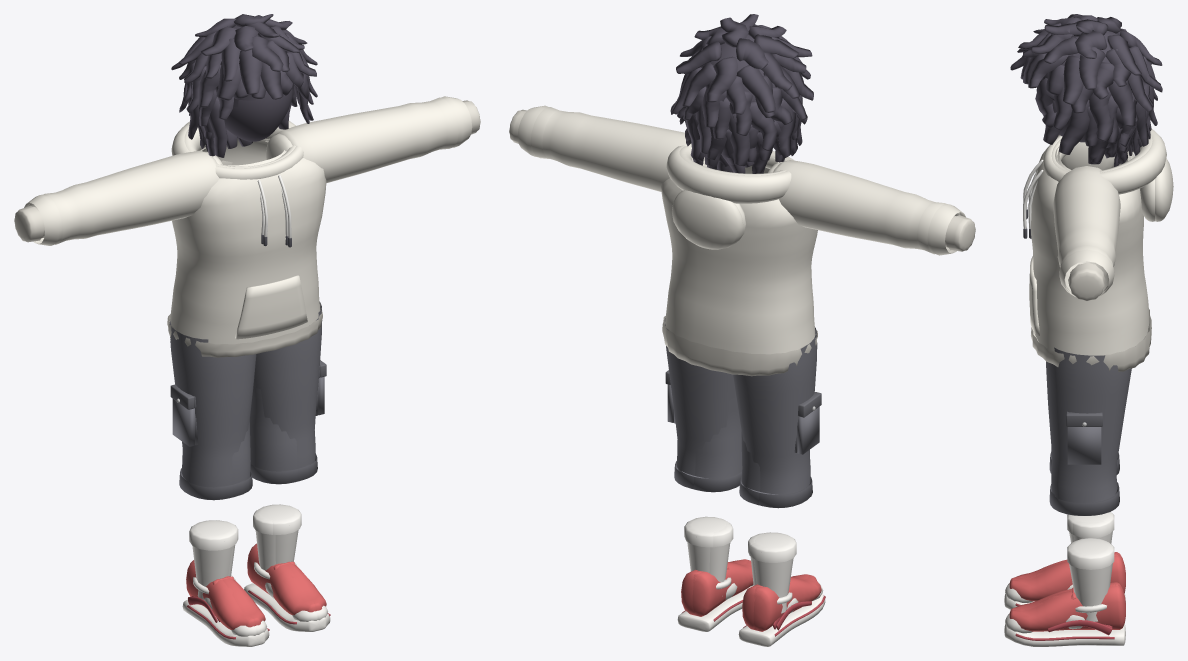
File: hero-parts.glb
3 views of the same model, side by side, from view 1: azimuth 30°, elevation 25°; view 2: azimuth 150°, elevation 25°; view 3: azimuth 270°, elevation 25° (orthographic).
Visible parts, largest first — view 1: body.sturdy|top.hoodie|TOP, body.sturdy|bottom.cargo|BOTTOM, body.slim|hair.ondulado|HAIR, body.sturdy|shoes.retro|SOLE, body.slim|bottom.cargo|BOTTOM, body.slim|top.hoodie|TOP, body.sturdy|top.hoodie|TOP_ACCENT, body.slim|shoes.retro|SOLE, body.slim|shoes.retro|SHOES, body.slim|hair.ondulado#covered|HAIR, body.sturdy|shoes.retro|SHOES; view 2: body.sturdy|top.hoodie|TOP, body.slim|hair.ondulado|HAIR, body.sturdy|bottom.cargo|BOTTOM, body.sturdy|shoes.retro|SOLE, body.sturdy|top.hoodie|TOP_ACCENT, body.slim|bottom.cargo|BOTTOM, body.slim|shoes.retro|SOLE, body.slim|shoes.retro|SHOES, body.sturdy|shoes.retro|SHOES, body.slim|top.hoodie|TOP, body.slim|hair.ondulado#covered|HAIR; view 3: body.sturdy|top.hoodie|TOP, body.slim|hair.ondulado|HAIR, body.sturdy|bottom.cargo|BOTTOM, body.sturdy|shoes.retro|SOLE, body.sturdy|shoes.retro|SHOES, body.sturdy|top.hoodie|TOP_ACCENT, body.slim|top.hoodie|TOP, body.slim|shoes.retro|SHOES, body.slim|shoes.retro|SOLE, body.slim|hair.ondulado#covered|HAIR, body.sturdy|shoes.retro|SHOES_DETAIL, body.sturdy|bottom.cargo|BOTTOM_ACCENT (+1 smaller).
Part boxes in pixels (box(x1,y1,x2,y2)): body.sturdy|top.hoodie|TOP: box(24, 96, 472, 344); body.sturdy|bottom.cargo|BOTTOM: box(169, 302, 324, 500); body.slim|hair.ondulado|HAIR: box(171, 14, 317, 157); body.sturdy|shoes.retro|SOLE: box(182, 504, 330, 646); body.slim|bottom.cargo|BOTTOM: box(183, 382, 318, 497); body.slim|top.hoodie|TOP: box(29, 97, 459, 244); body.sturdy|top.hoodie|TOP_ACCENT: box(14, 100, 480, 357); body.slim|shoes.retro|SOLE: box(218, 511, 319, 645); body.slim|shoes.retro|SHOES: box(222, 543, 315, 625); body.slim|hair.ondulado#covered|HAIR: box(189, 89, 292, 148); body.sturdy|shoes.retro|SHOES: box(186, 560, 326, 629); body.sturdy|top.hoodie|TOP: box(517, 105, 965, 354); body.slim|hair.ondulado|HAIR: box(670, 14, 813, 173); body.sturdy|bottom.cargo|BOTTOM: box(664, 318, 819, 508); body.sturdy|shoes.retro|SOLE: box(677, 516, 825, 646); body.sturdy|top.hoodie|TOP_ACCENT: box(509, 109, 975, 376); body.slim|bottom.cargo|BOTTOM: box(674, 394, 806, 505); body.slim|shoes.retro|SOLE: box(689, 523, 767, 645); body.slim|shoes.retro|SHOES: box(692, 560, 809, 630); body.sturdy|shoes.retro|SHOES: box(681, 559, 821, 631); body.slim|top.hoodie|TOP: box(530, 107, 960, 254); body.slim|hair.ondulado#covered|HAIR: box(685, 112, 798, 173); body.sturdy|top.hoodie|TOP: box(1029, 129, 1173, 355); body.slim|hair.ondulado|HAIR: box(1010, 14, 1162, 166); body.sturdy|bottom.cargo|BOTTOM: box(1046, 347, 1131, 515); body.sturdy|shoes.retro|SOLE: box(1004, 512, 1125, 646); body.sturdy|shoes.retro|SHOES: box(1009, 552, 1125, 631); body.sturdy|top.hoodie|TOP_ACCENT: box(1031, 263, 1151, 371); body.slim|top.hoodie|TOP: box(1051, 135, 1154, 291); body.slim|shoes.retro|SHOES: box(1009, 553, 1125, 614); body.slim|shoes.retro|SOLE: box(1004, 520, 1125, 632); body.slim|hair.ondulado#covered|HAIR: box(1036, 80, 1153, 163); body.sturdy|shoes.retro|SHOES_DETAIL: box(1015, 620, 1114, 640); body.sturdy|bottom.cargo|BOTTOM_ACCENT: box(1066, 412, 1102, 426).
Size of the model in its own units: 1.34 by 1.68 by 0.4251.
